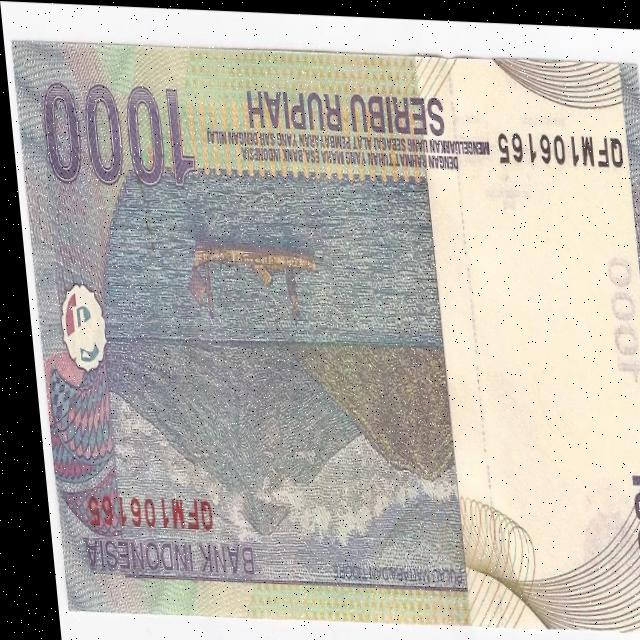1000IndonesianRupiah: (9, 32, 640, 630)
